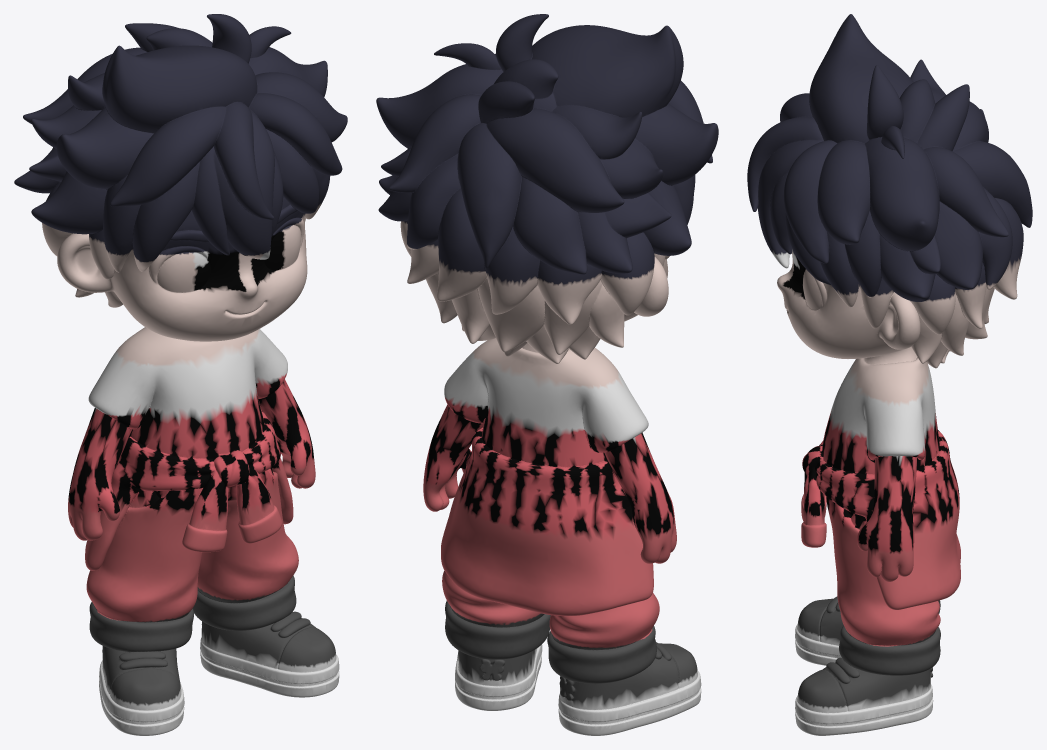
Rendered from mascot-3d-full.glb.
3 views of the same model, side by side, from view 1: azimuth 30°, elevation 25°; view 2: azimuth 150°, elevation 25°; view 3: azimuth 270°, elevation 25° (orthographic). The views are drawn at different scales.
Parts seen in each view (by area): view 1: Chibi; view 2: Chibi; view 3: Chibi.
Part boxes in pixels (x1,y1,x2,y2): Chibi: (14, 14, 347, 735); Chibi: (376, 14, 718, 735); Chibi: (747, 14, 1032, 735).
Bounding box in the file's own units: 0.7023 × 1.5 × 0.6145.
